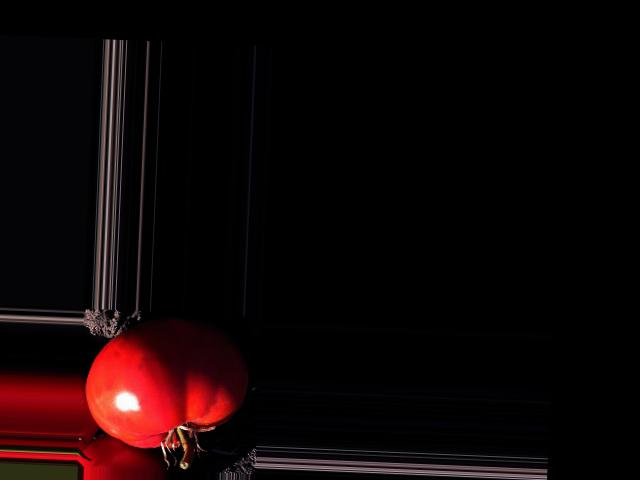tomato: (83, 313, 251, 451)
